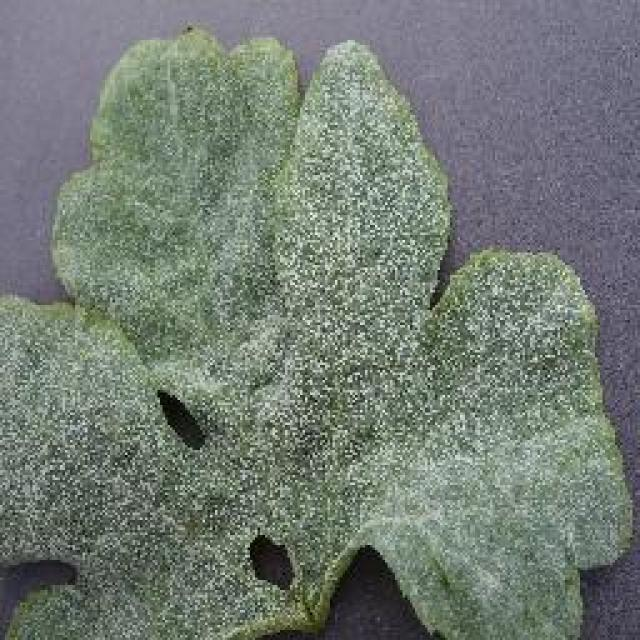Squ_Powdery_mildew: (27, 152, 486, 640)
